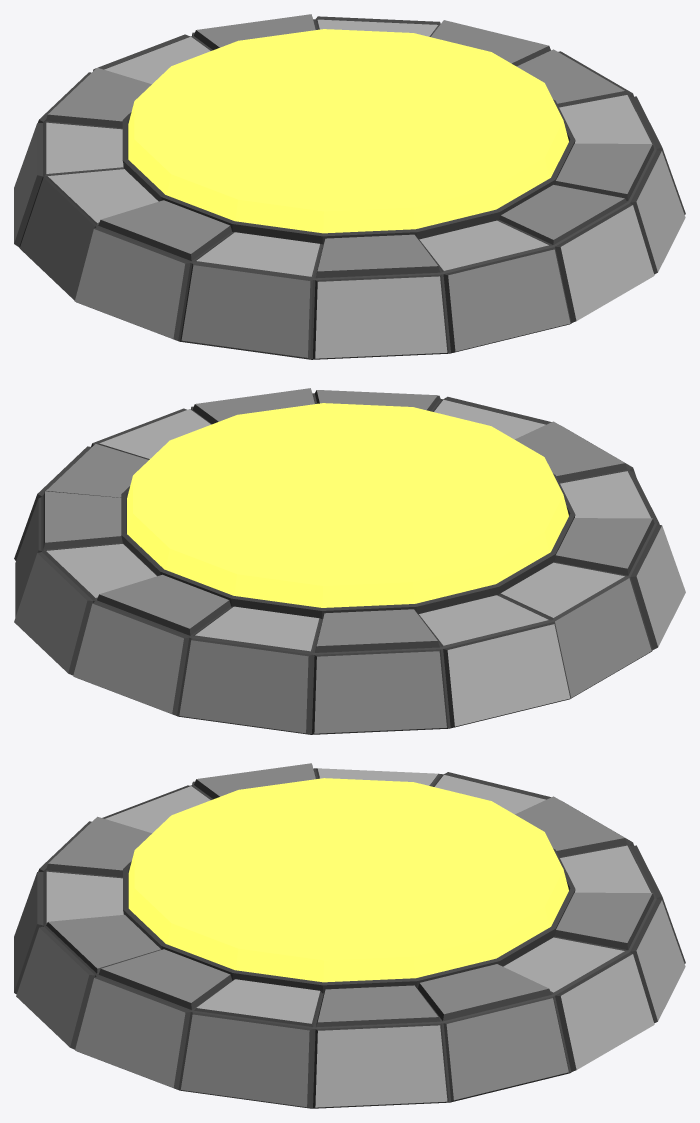
Rendered from Button Asset.fbx.
The picture shows the model from 3 angles, top to bottom: view 1: azimuth 30°, elevation 25°; view 2: azimuth 150°, elevation 25°; view 3: azimuth 270°, elevation 25°; orthographic projection.
Parts seen in each view (by area): view 1: Button Container2, Button Activator2; view 2: Button Container2, Button Activator2; view 3: Button Container2, Button Activator2.
Boxes of the visible parts, x1,y1,x2,y2 form: Button Container2: (14, 14, 685, 359); Button Activator2: (128, 29, 568, 233); Button Container2: (14, 388, 685, 734); Button Activator2: (127, 403, 568, 607); Button Container2: (14, 763, 685, 1108); Button Activator2: (128, 778, 568, 982).
Size of the model in its own units: 431 by 70.05 by 430.
2 materials, 1 textured.
